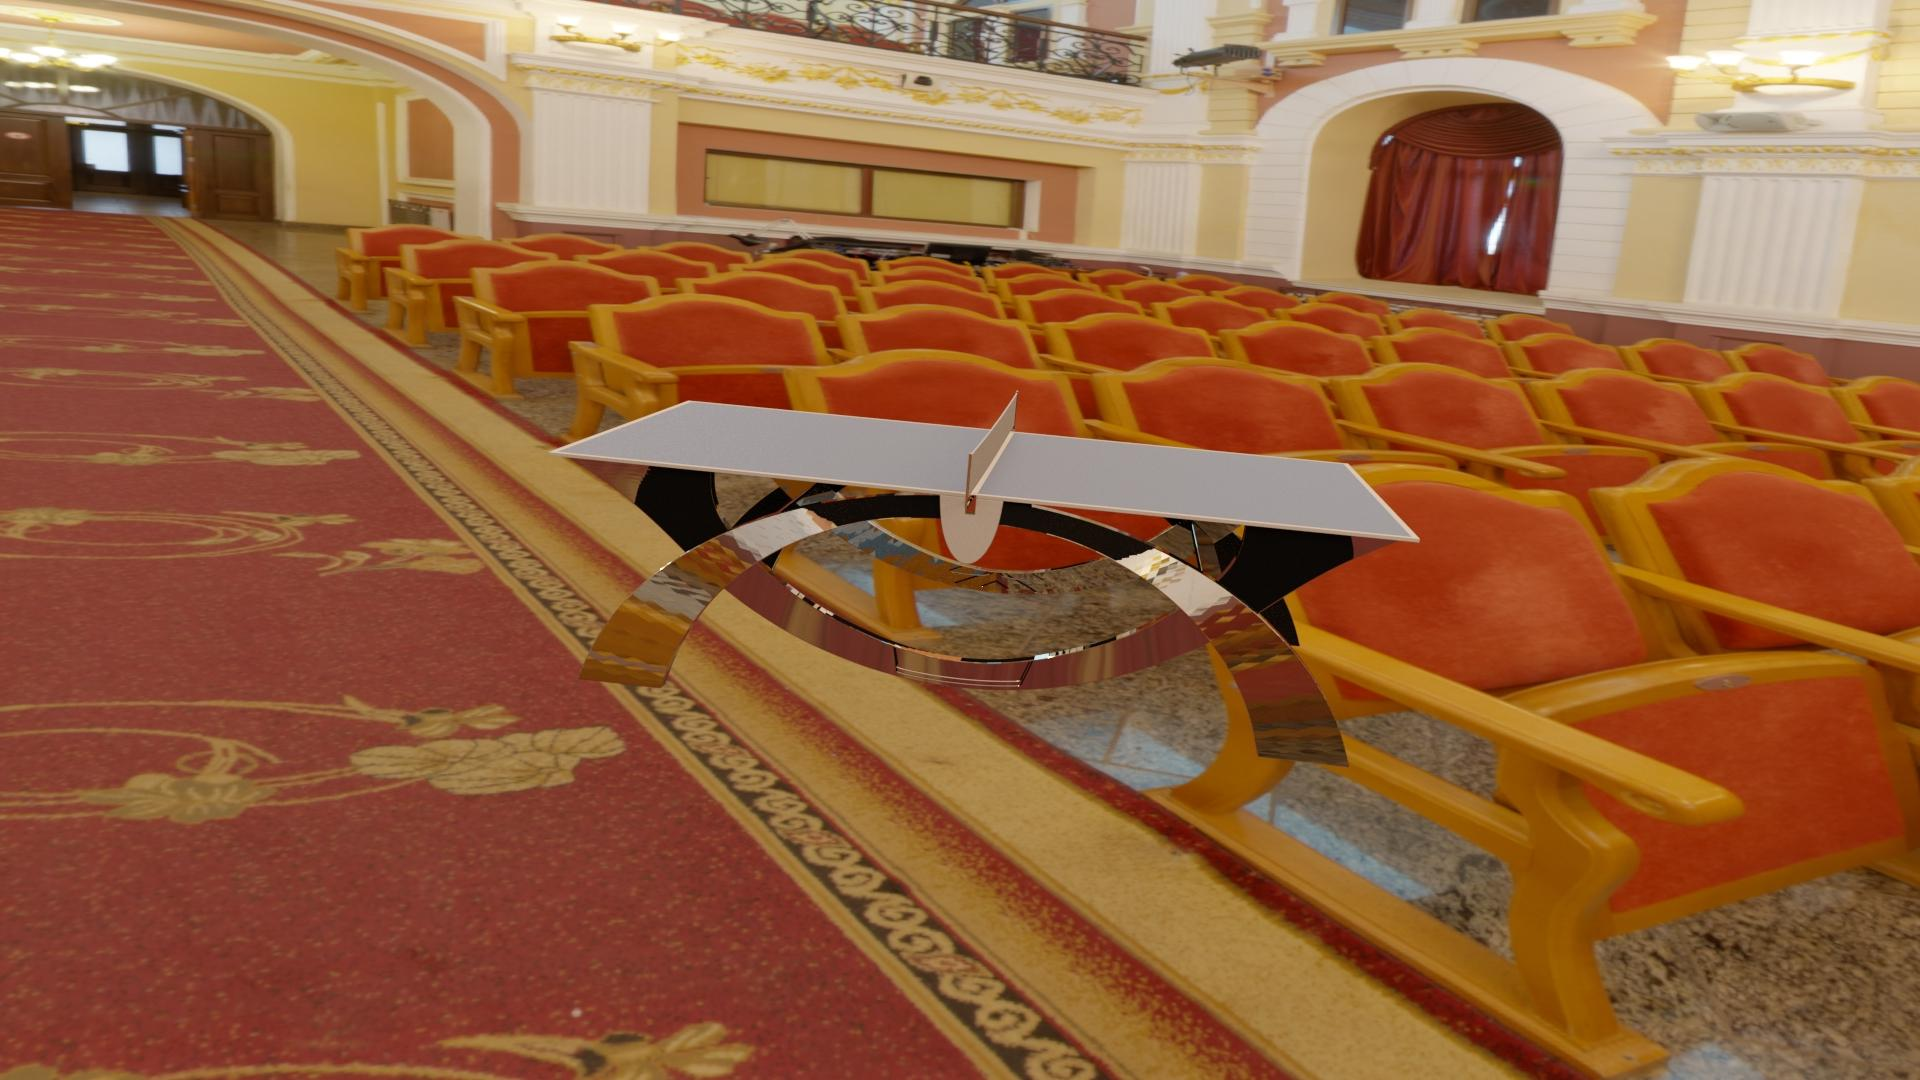table: (556, 402, 1412, 537)
